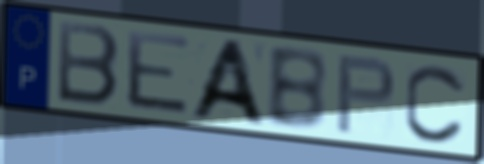A: (183, 37, 270, 129)
B: (55, 18, 123, 109), (264, 46, 330, 133)
C: (402, 61, 468, 147)
E: (124, 27, 193, 118)
P: (333, 53, 399, 137)
